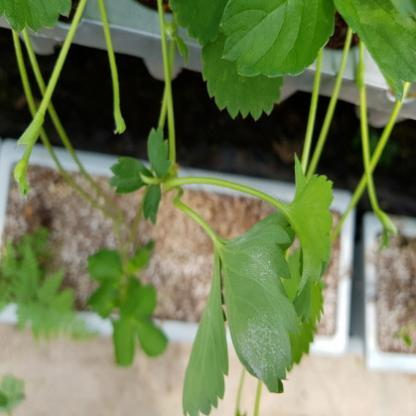Strawberry_Powdery_Mildew_Leaf: (212, 208, 302, 394)
